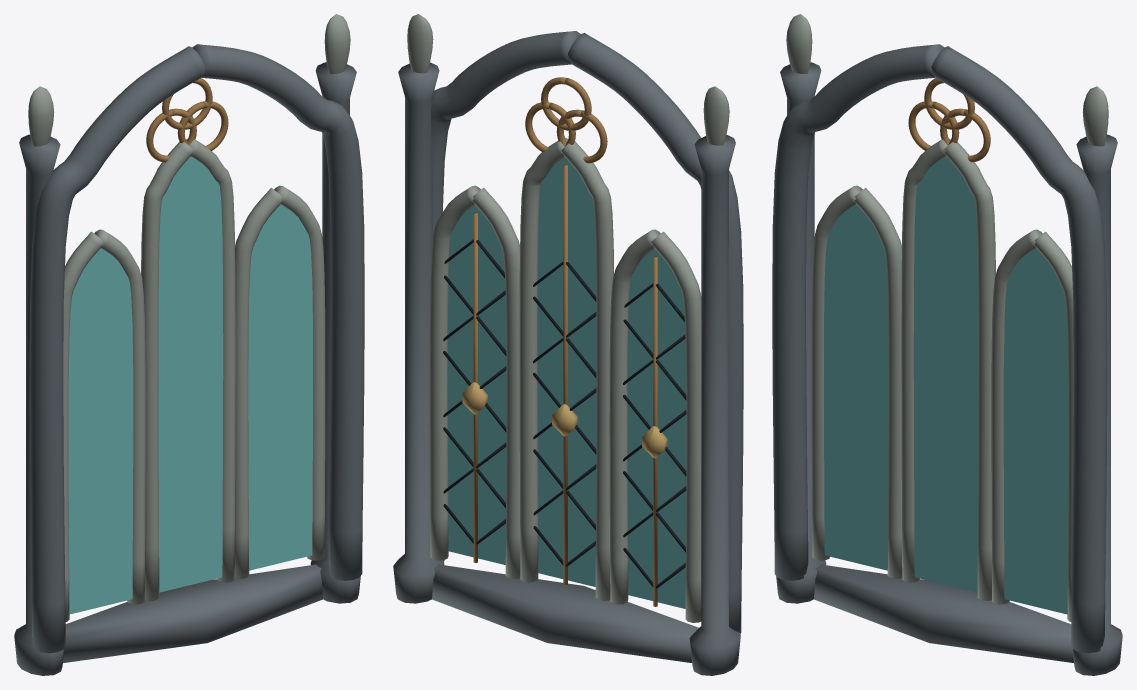
Rendered from leaded_lancet.glb.
3 renders of one model, left to right at view 1: azimuth 30°, elevation 25°; view 2: azimuth 150°, elevation 25°; view 3: azimuth 330°, elevation 25°, orthographic.
Visible parts, largest first — view 1: Body__glass, Body__stone, Body__edge, Body__bronze; view 2: Body__stone, Body__glass, Body__edge, Body__bronze, Body__dark, Body__glass_gold; view 3: Body__glass, Body__stone, Body__edge, Body__bronze.
Boxes of the visible parts, x1,y1,x2,y2 form: Body__glass: [68, 156, 312, 614]; Body__stone: [14, 44, 364, 675]; Body__edge: [28, 14, 350, 621]; Body__bronze: [146, 78, 228, 162]; Body__stone: [393, 31, 743, 675]; Body__glass: [447, 157, 686, 608]; Body__edge: [407, 14, 729, 622]; Body__bronze: [473, 77, 657, 606]; Body__dark: [443, 239, 686, 588]; Body__glass_gold: [462, 382, 667, 458]; Body__glass: [824, 156, 1068, 614]; Body__stone: [772, 44, 1122, 675]; Body__edge: [786, 14, 1108, 621]; Body__bronze: [908, 78, 990, 162].
Bounding box in the file's own units: 2.78 × 4.63 × 0.56.
